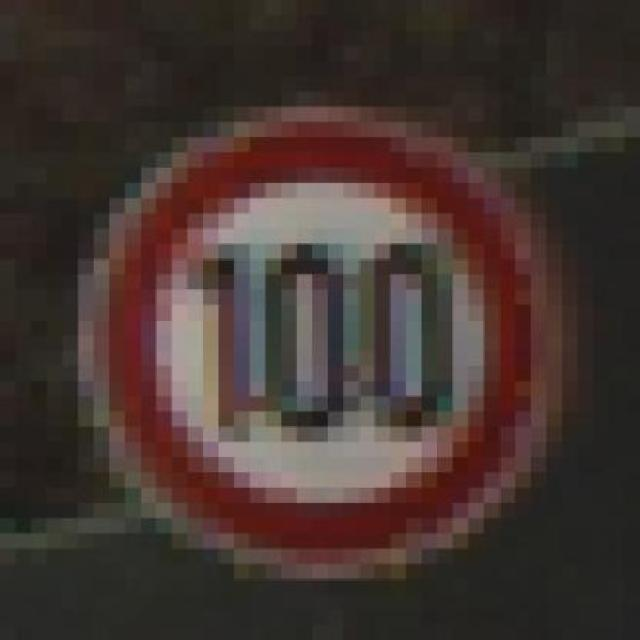forb_speed_over_100: (95, 118, 547, 565)
